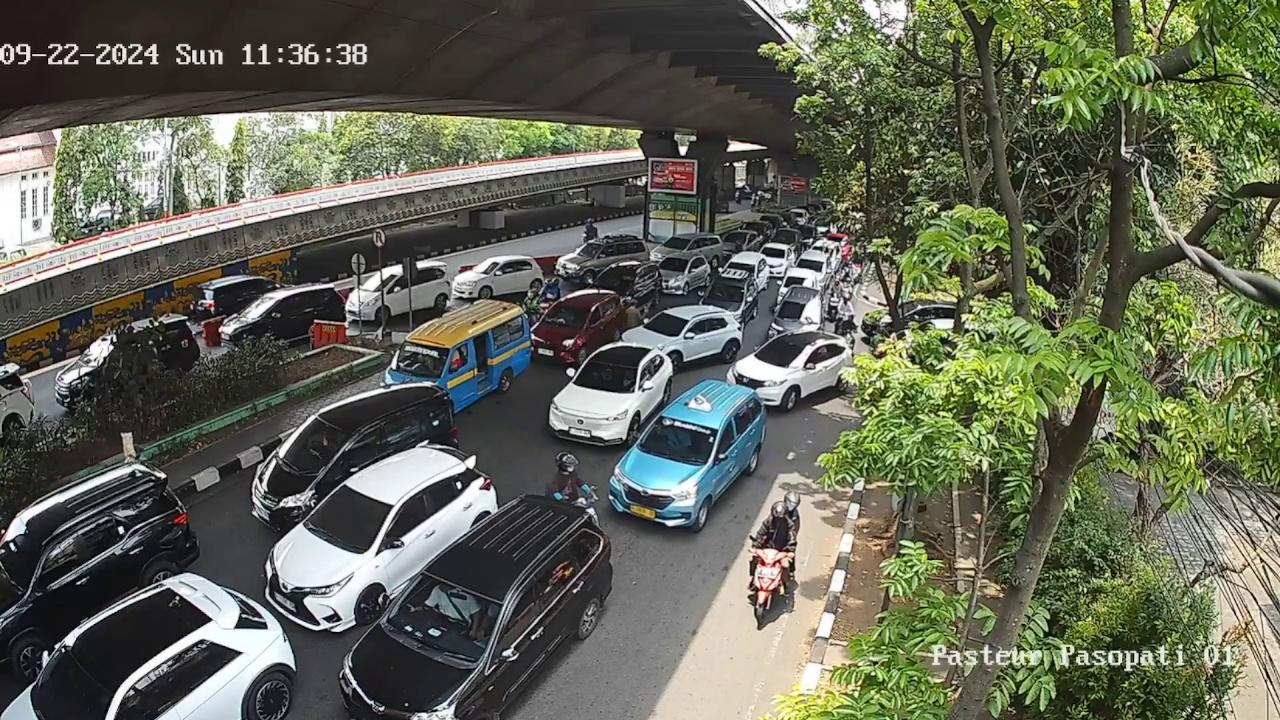pakai: (418, 583, 480, 637), (663, 426, 693, 449)
windshield: (386, 573, 501, 660), (307, 483, 394, 552), (637, 422, 717, 466), (272, 422, 352, 463), (569, 353, 645, 392), (392, 342, 451, 375), (759, 340, 810, 371), (773, 297, 823, 324), (541, 302, 592, 328), (644, 311, 687, 337), (708, 281, 744, 301)
